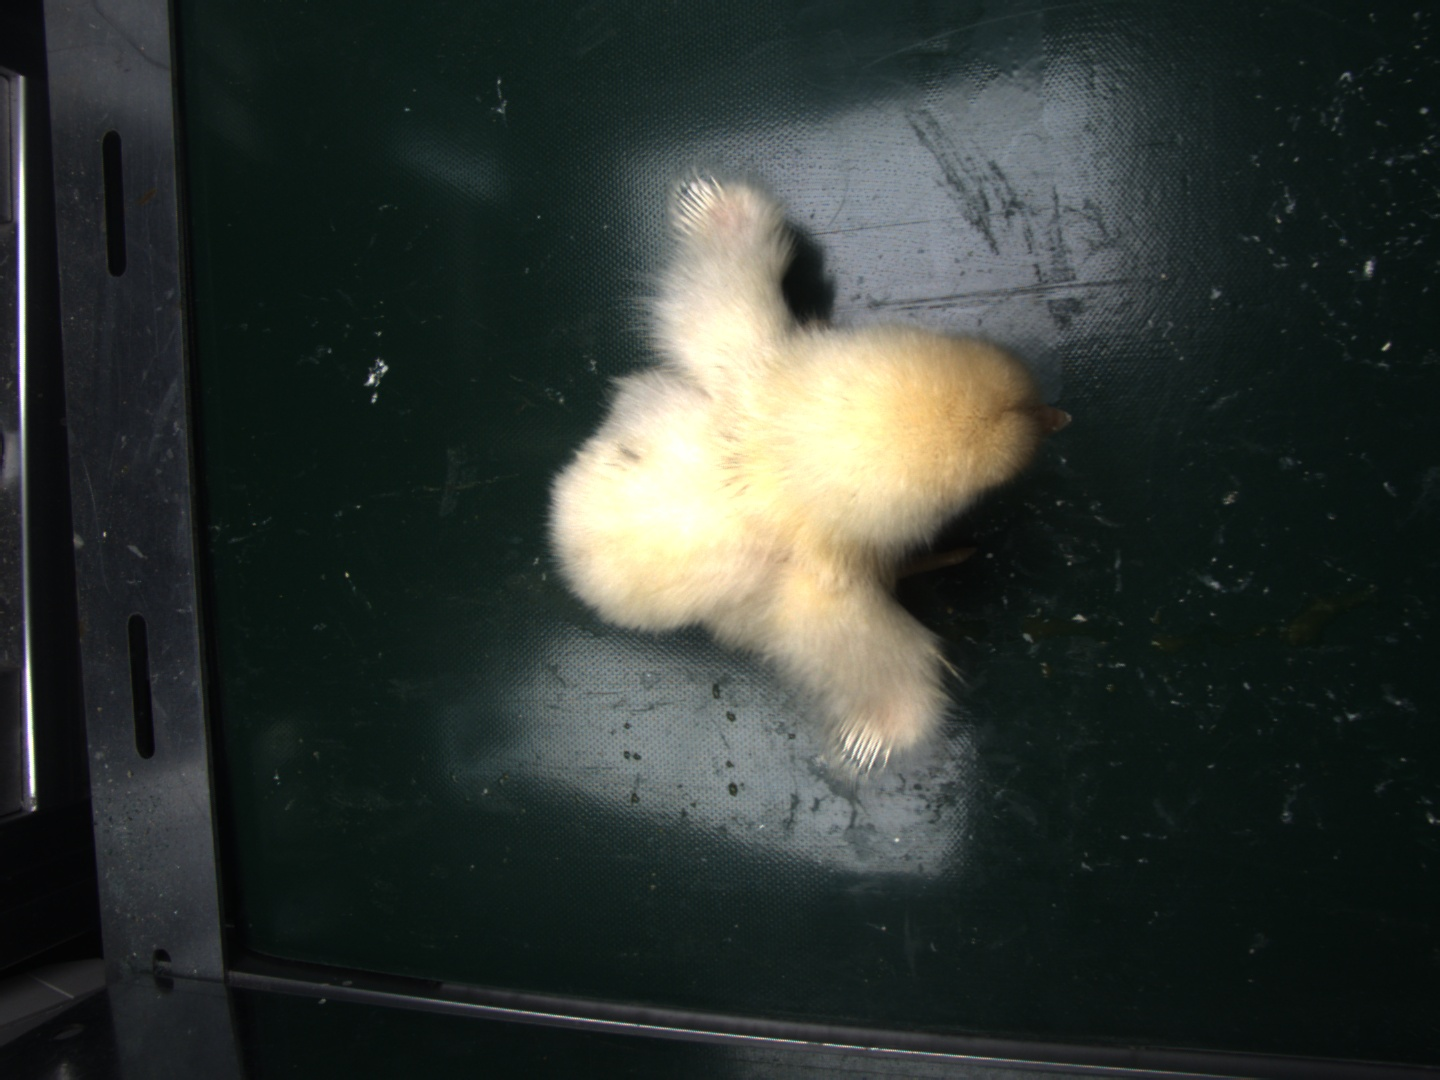male: (831, 720, 893, 766), (677, 180, 725, 236)
